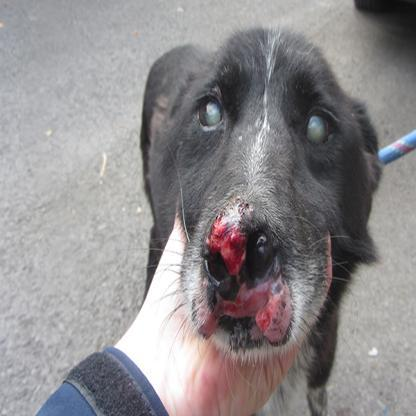dog: (133, 46, 416, 416)
injured: (188, 164, 306, 386)
